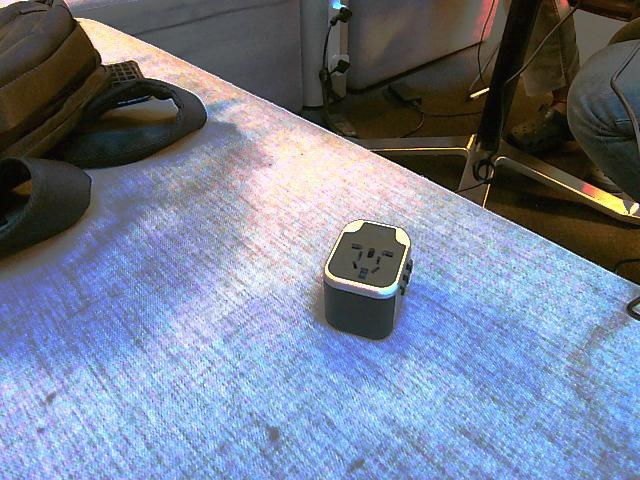adapter: (322, 218, 413, 340)
